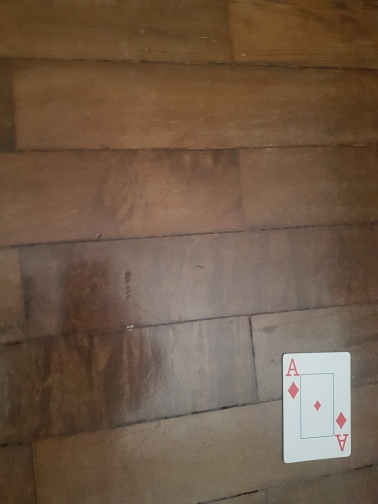ace: (282, 351, 351, 465)
